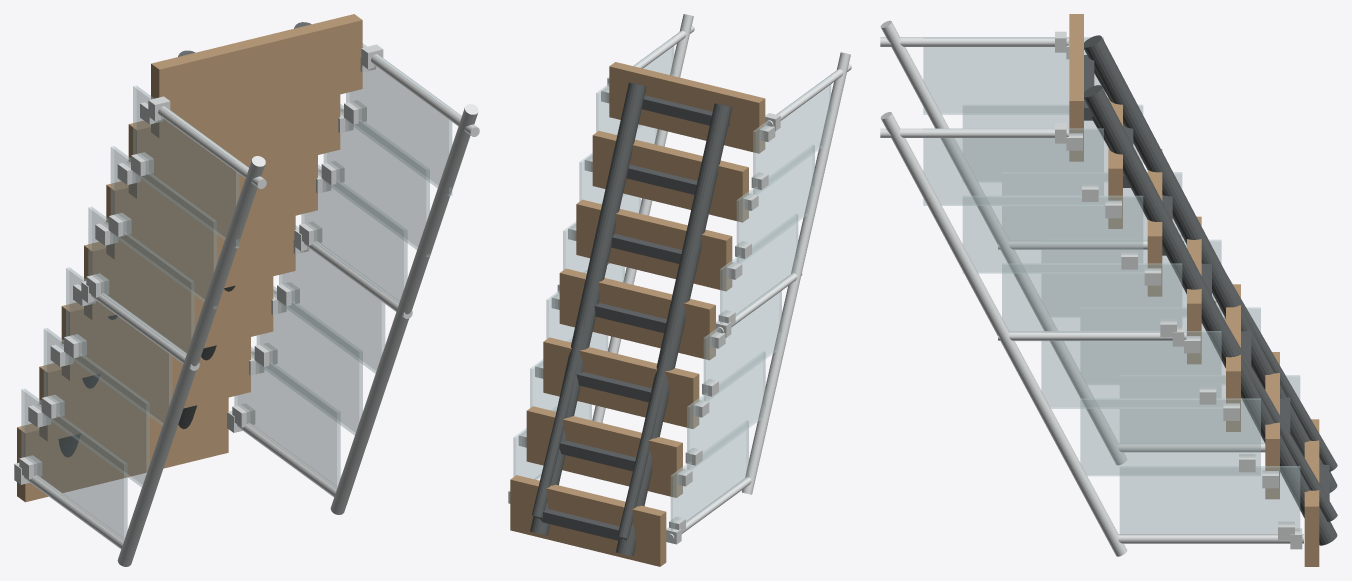
The model's file is glass-stair-railing.glb.
The picture shows the model from 3 angles, left to right: view 1: azimuth 30°, elevation 25°; view 2: azimuth 150°, elevation 25°; view 3: azimuth 270°, elevation 25°; orthographic projection. The views are drawn at different scales.
Parts seen in each view (by area): view 1: tread-6, tread-5, tread-4, tread-3, tread-1, tread-2, tread-0, glass--1-1, glass--1-4, glass-1-1, glass--1-0, glass--1-2 (+16 smaller); view 2: tread-0, tread-6, tread-1, tread-2, stringer--0.3, tread-3, tread-4, tread-5, stringer-0.3, glass--1-1, handrail--1, glass--1-4 (+28 smaller); view 3: glass-1-1, glass-1-4, glass-1-0, glass-1-2, glass-1-3, glass-1-5, glass--1-5, stringer-0.3, glass--1-4, stringer--0.3, handrail-1, glass--1-2 (+21 smaller).
Part boxes in pixels (x1=…): tread-6: x1=151, y1=14, x2=362, y2=138; tread-5: x1=128, y1=94, x2=340, y2=198; tread-4: x1=106, y1=155, x2=317, y2=259; tread-3: x1=84, y1=216, x2=295, y2=320; tread-1: x1=39, y1=337, x2=250, y2=441; tread-2: x1=61, y1=276, x2=273, y2=380; tread-0: x1=17, y1=397, x2=228, y2=502; glass--1-1: x1=43, y1=328, x2=149, y2=487; glass--1-4: x1=110, y1=146, x2=216, y2=308; glass-1-1: x1=256, y1=286, x2=362, y2=435; glass--1-0: x1=21, y1=388, x2=127, y2=541; glass--1-2: x1=66, y1=267, x2=172, y2=425; tread-0: x1=510, y1=475, x2=666, y2=566; tread-6: x1=609, y1=62, x2=765, y2=153; tread-1: x1=526, y1=406, x2=682, y2=497; tread-2: x1=543, y1=337, x2=699, y2=428; stringer--0.3: x1=616, y1=103, x2=732, y2=555; tread-3: x1=559, y1=268, x2=715, y2=360; tread-4: x1=576, y1=199, x2=732, y2=291; tread-5: x1=592, y1=131, x2=748, y2=222; stringer-0.3: x1=530, y1=82, x2=646, y2=535; glass--1-1: x1=687, y1=351, x2=765, y2=470; handrail--1: x1=742, y1=52, x2=850, y2=494; glass--1-4: x1=736, y1=145, x2=814, y2=263; glass-1-1: x1=1080, y1=398, x2=1260, y2=476; glass-1-4: x1=962, y1=195, x2=1143, y2=273; glass-1-0: x1=1119, y1=466, x2=1300, y2=543; glass-1-2: x1=1041, y1=331, x2=1221, y2=408; glass-1-3: x1=1002, y1=263, x2=1182, y2=341; glass-1-5: x1=923, y1=128, x2=1103, y2=205; glass--1-5: x1=923, y1=37, x2=1103, y2=114; stringer-0.3: x1=1084, y1=85, x2=1337, y2=545; glass--1-4: x1=962, y1=104, x2=1143, y2=182; stringer--0.3: x1=1084, y1=35, x2=1337, y2=492; handrail-1: x1=880, y1=112, x2=1127, y2=556; glass--1-2: x1=1041, y1=239, x2=1221, y2=317.
Size of the model in its own units: 1.18 by 2.62 by 2.33.
